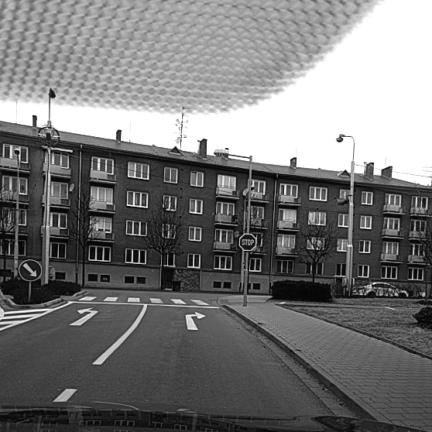Road: (0, 290, 331, 416)
